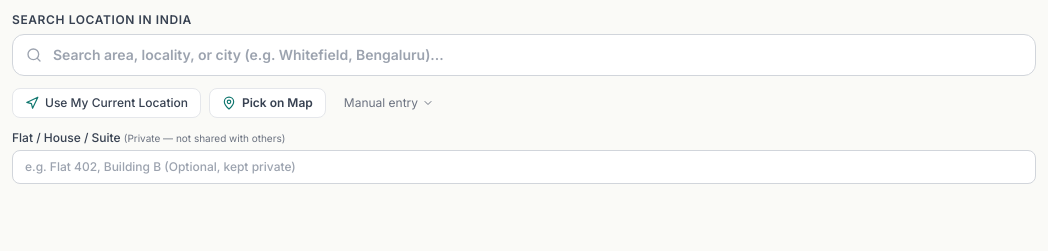
Test: LocationPicker Component › displays clear error when geolocation permission is denied
Click the button "Use My Current Location": [106, 103] box [12, 88, 201, 118]
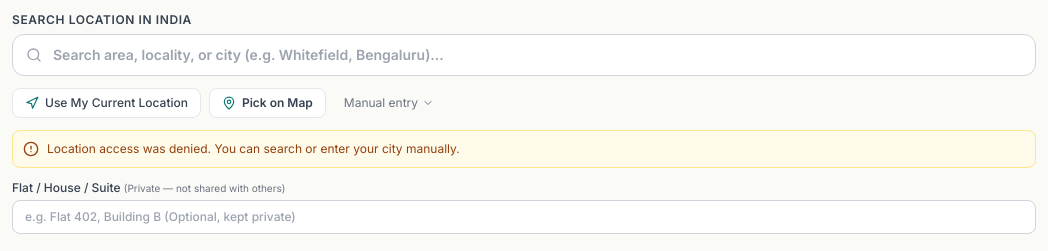
Check: the text "Location access was denied. You can search or enter your city manually." is shown, box [47, 141, 460, 157]
